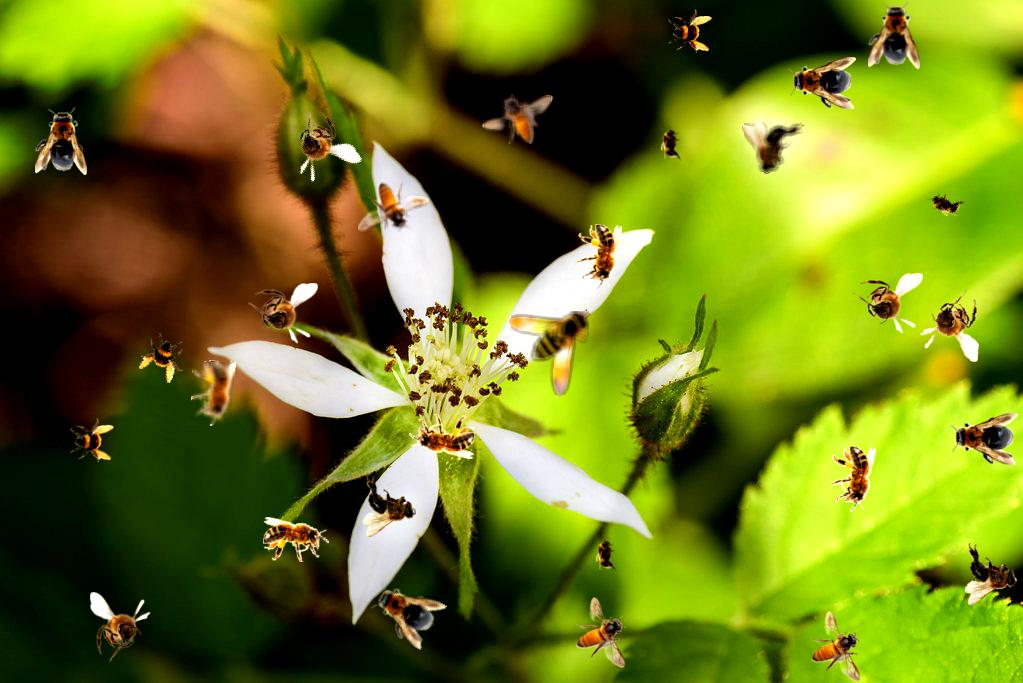Bee: (274, 100, 363, 192), (509, 309, 591, 397), (362, 572, 448, 652), (916, 285, 987, 363), (90, 592, 151, 662), (248, 283, 318, 344), (853, 273, 923, 334), (576, 597, 626, 668), (358, 182, 429, 232), (811, 611, 861, 682), (482, 94, 553, 144), (788, 57, 856, 109), (35, 107, 87, 175), (950, 413, 1018, 465), (868, 1, 920, 69), (135, 329, 193, 387), (742, 121, 804, 174), (965, 543, 1018, 605), (363, 475, 416, 537), (263, 517, 329, 562), (409, 414, 475, 459), (577, 224, 622, 290), (191, 360, 236, 426), (831, 446, 876, 512), (668, 9, 712, 53), (70, 418, 114, 462), (922, 185, 968, 223), (595, 534, 617, 574), (660, 123, 682, 163)
